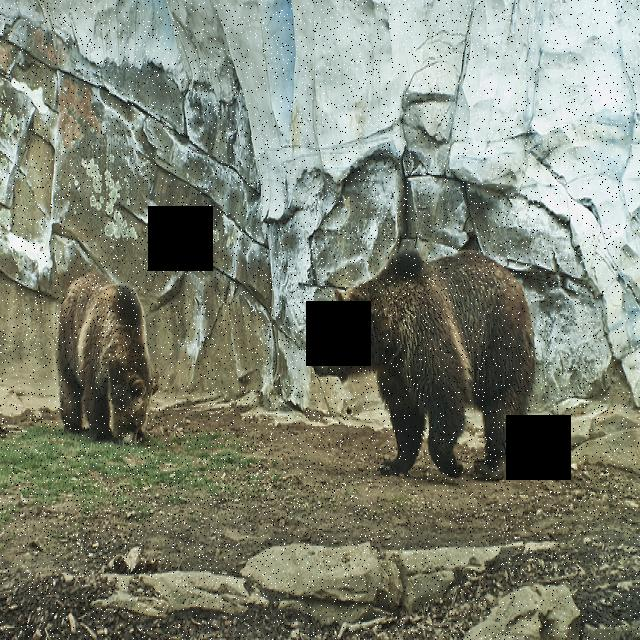Bear: (303, 235, 542, 481), (45, 257, 165, 454)
